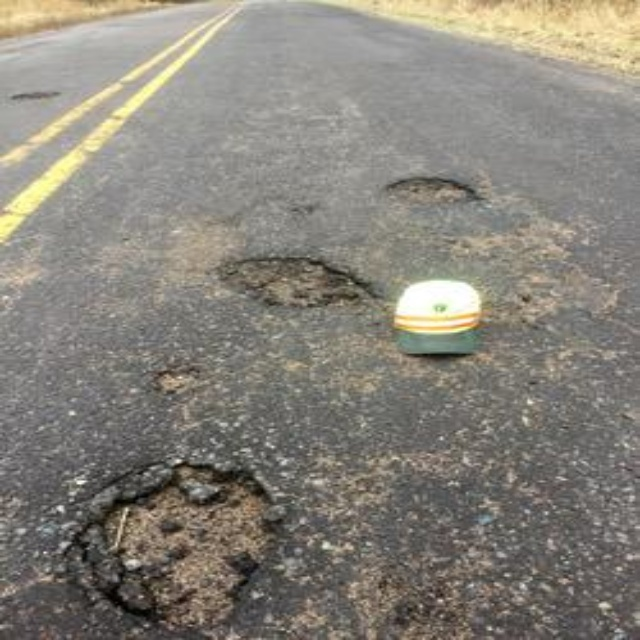pothole: (67, 466, 282, 631), (215, 257, 374, 309), (387, 177, 471, 200)
